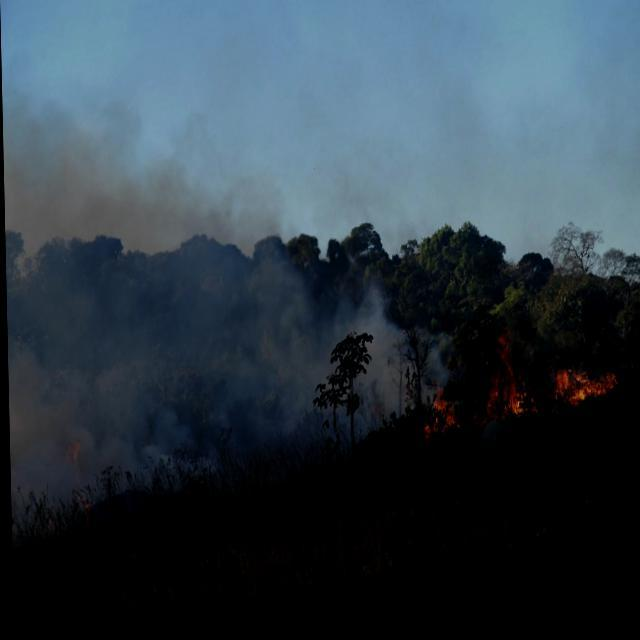Fire: (474, 350, 536, 442), (548, 376, 616, 430), (417, 401, 458, 462)
